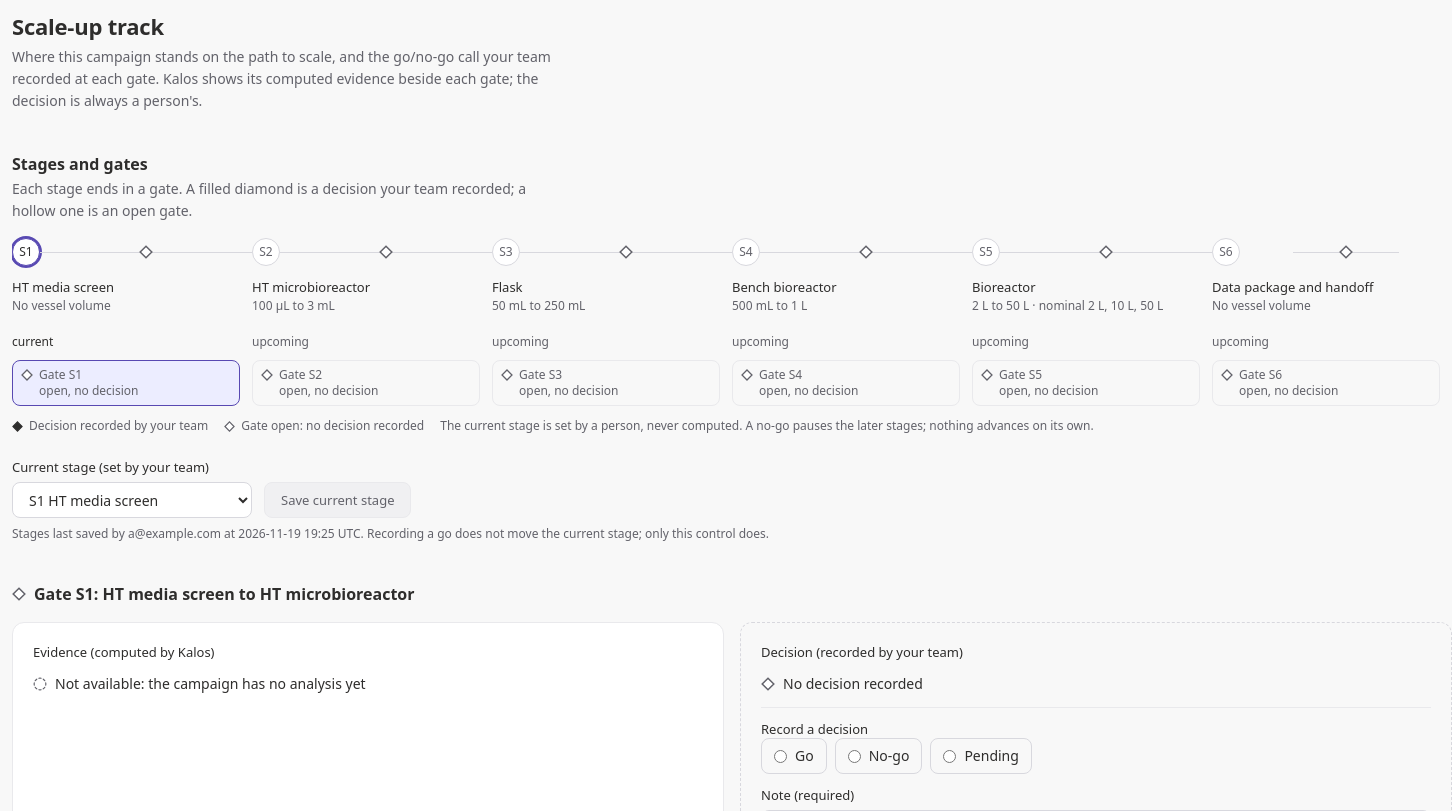
Test case: Scale-up page › keeps a saved current stage when a read that started before the save lands after it
Select "S2 HT microbioreactor" in the dropdown labelled "Current stage (set by your team)" at (132,500), box [12,482,252,518]
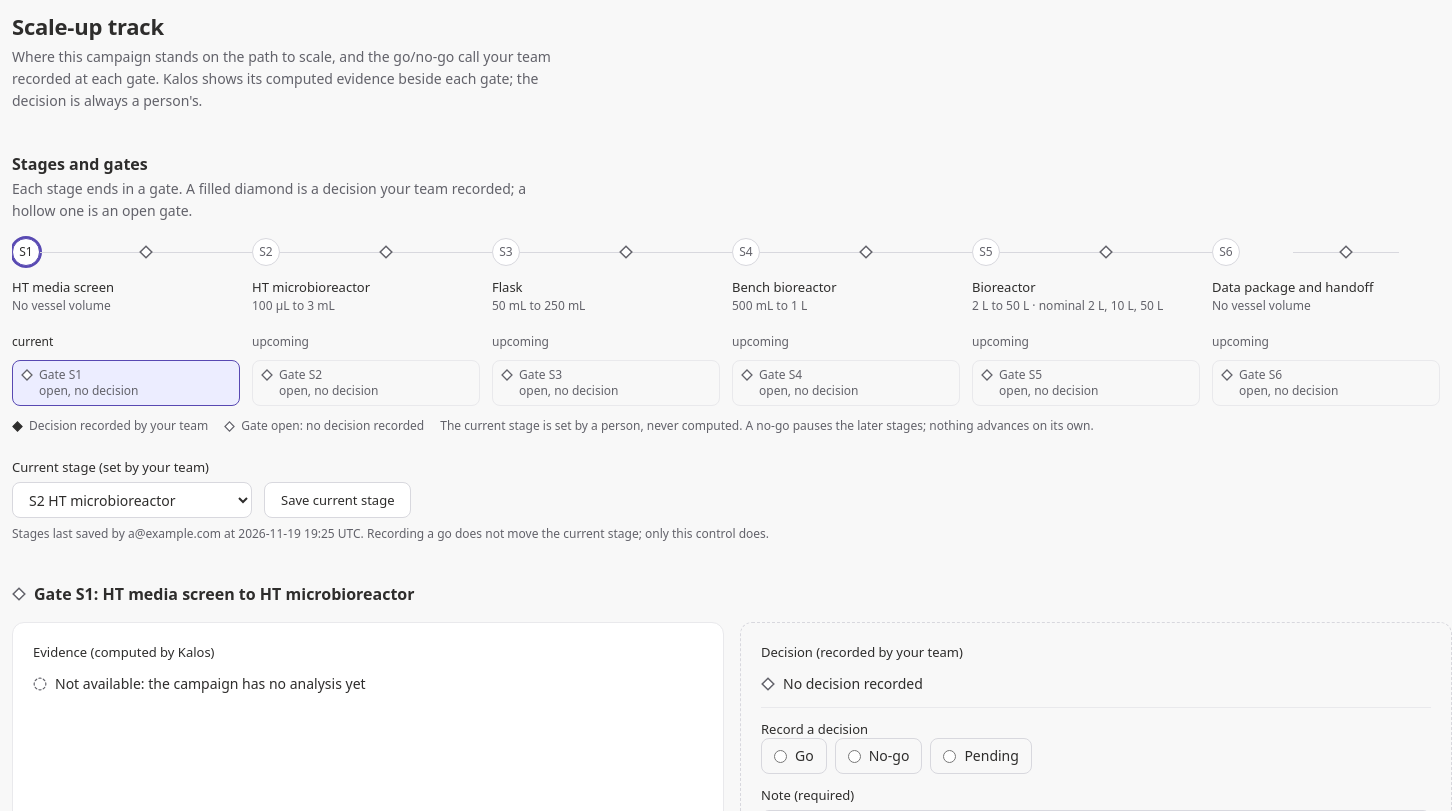
Click the button "Save current stage" at (338,500), box [264,482,412,518]
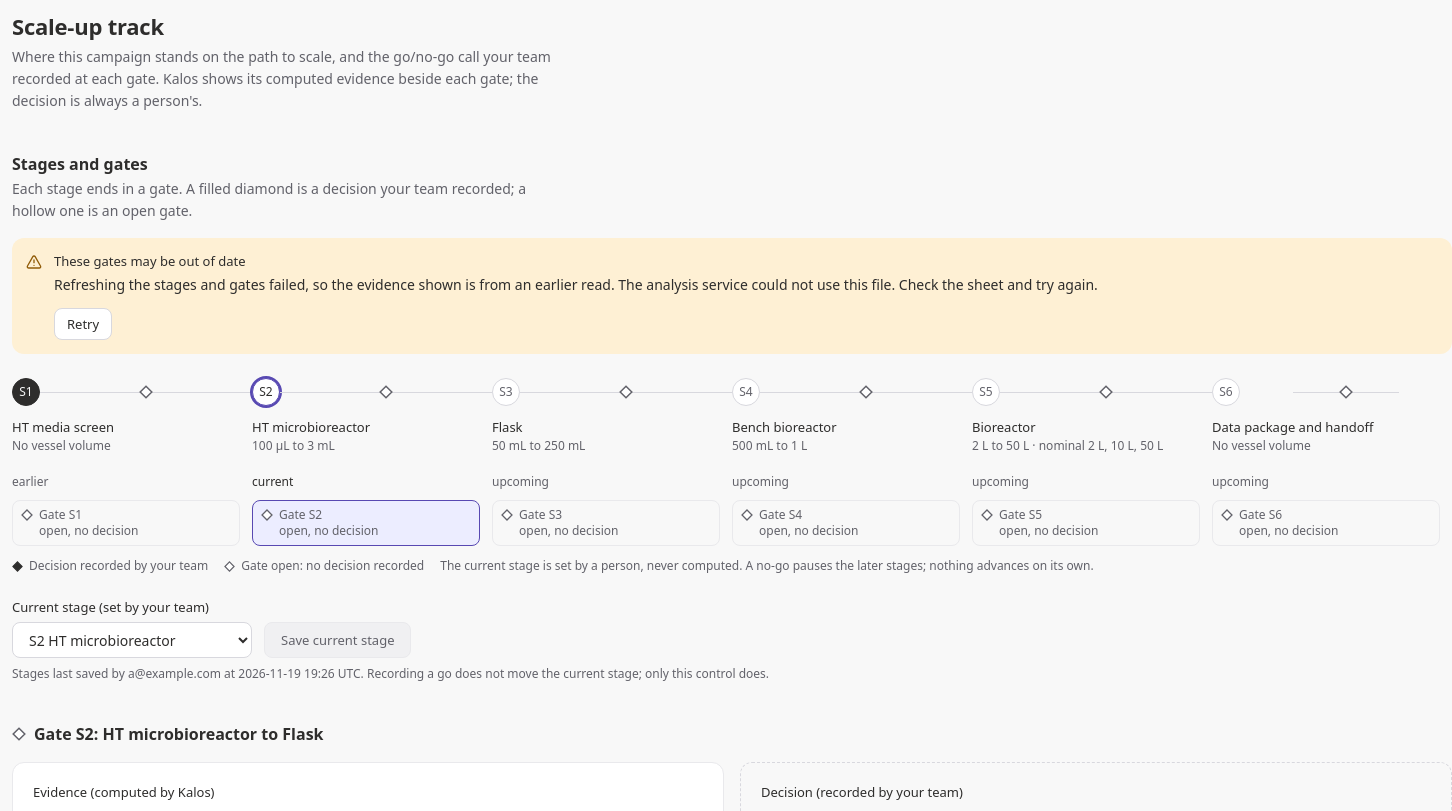
Now the dropdown labelled "Current stage (set by your team)" shows "S2 HT microbioreactor", box [12,622,252,658]
Now the text "These gates may be out of date" is shown, box [54,252,246,270]
